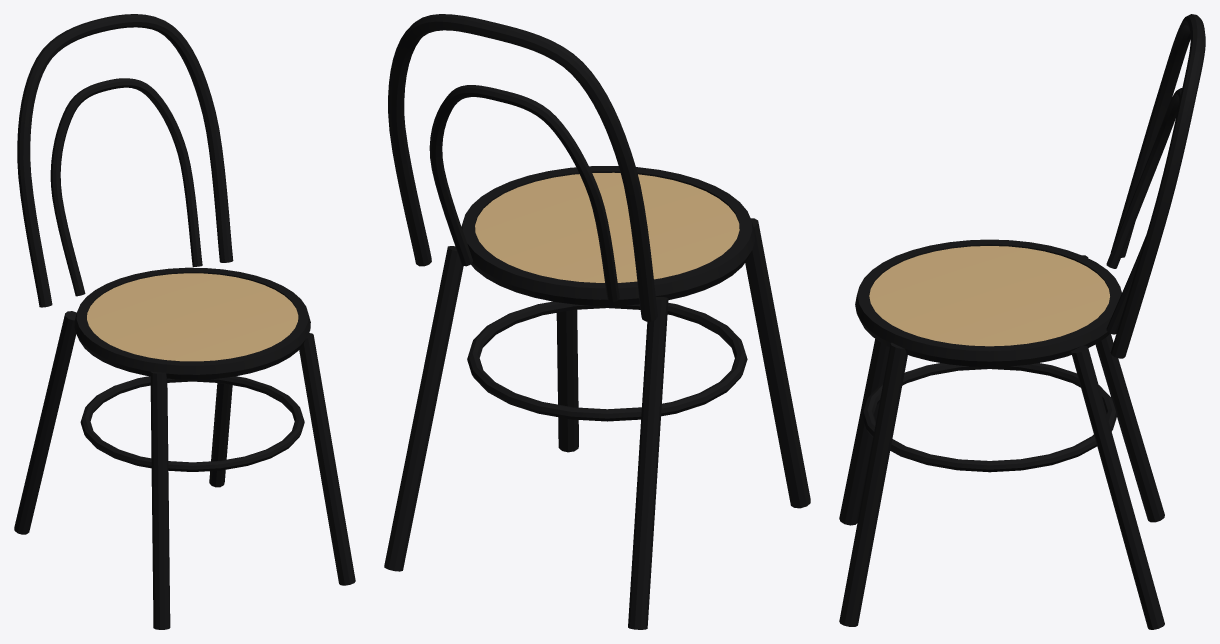
File: bentwood_black.glb
3 renders of one model, left to right at view 1: azimuth 30°, elevation 25°; view 2: azimuth 150°, elevation 25°; view 3: azimuth 270°, elevation 25°, orthographic. The views are drawn at different scales.
Parts seen in each view (by area): view 1: bentwood_black; view 2: bentwood_black; view 3: bentwood_black.
Boxes of the visible parts, x1=… form: bentwood_black: x1=14, y1=14, x2=355, y2=629; bentwood_black: x1=384, y1=14, x2=810, y2=629; bentwood_black: x1=839, y1=14, x2=1205, y2=629.
Size of the model in its own units: 0.4273 by 0.9306 by 0.5714.
